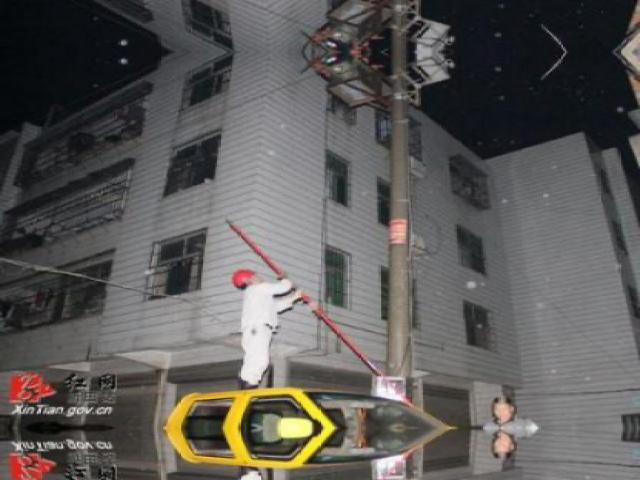Helmet: (227, 264, 260, 291)
